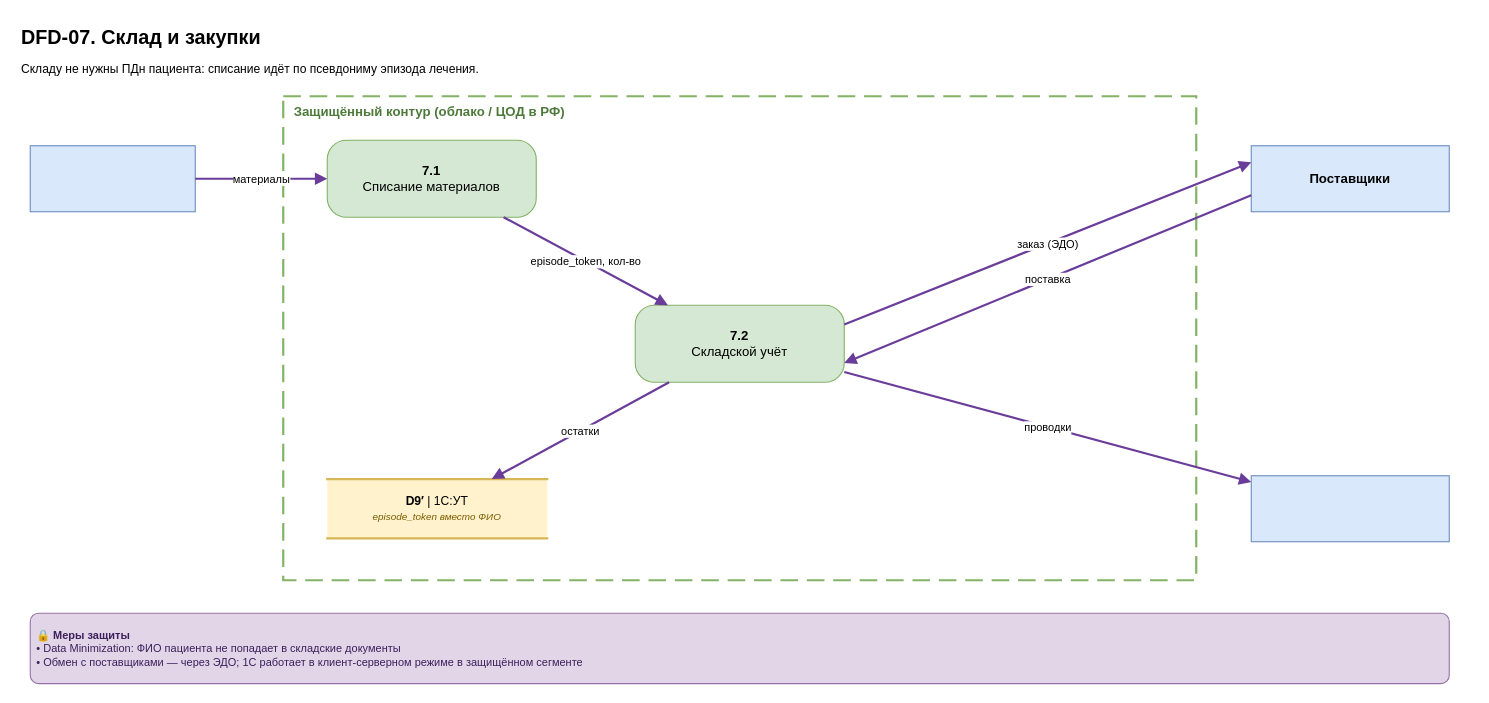
Image size: 1489x703. Some labels were removed from this diagram. The shapes that lost their labels are listed below. From the top down, each one's box as (x1, y1, x2, y2) in pixels, then its label:
(29, 145, 195, 212): Медицинский специалист
(1250, 475, 1449, 542): 1С:Бухгалтерия
